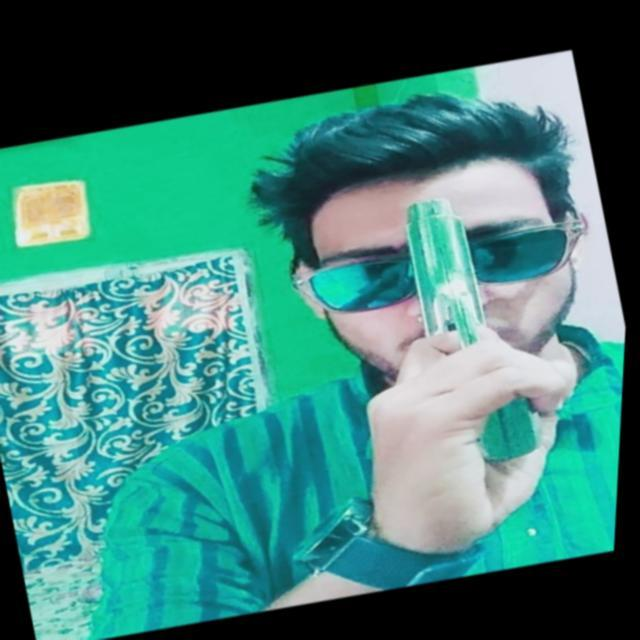weapon: (363, 169, 571, 478)
